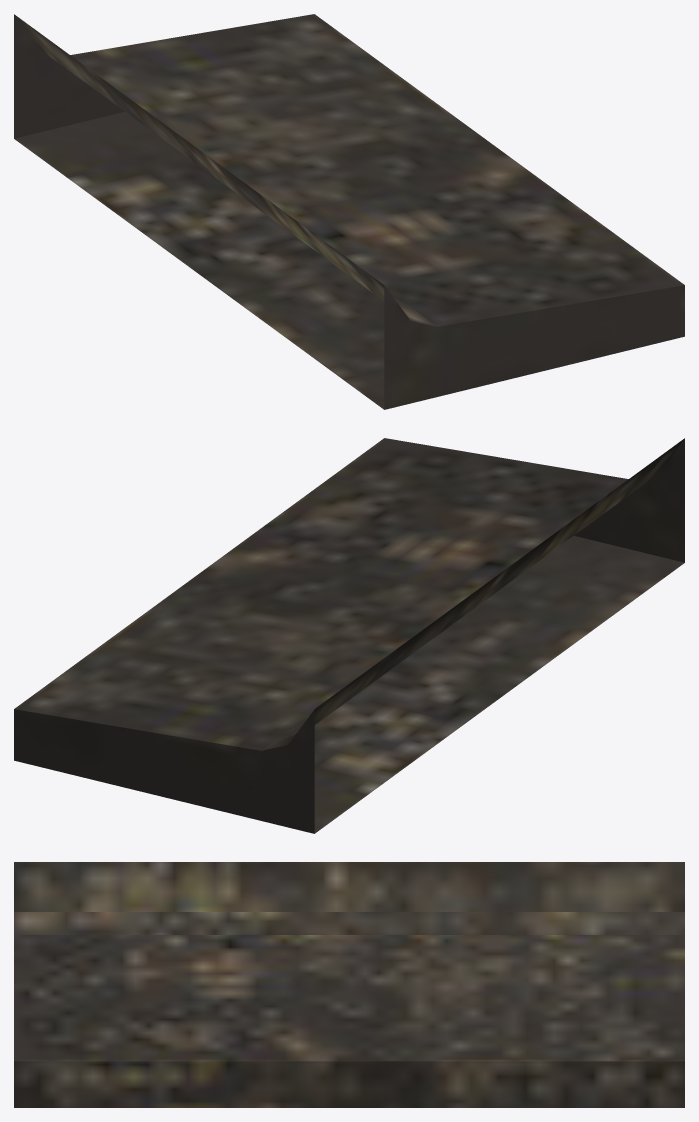
Rendered from WindowTop_S.FBX.
3 renders of one model, top to bottom at view 1: azimuth 30°, elevation 25°; view 2: azimuth 150°, elevation 25°; view 3: azimuth 270°, elevation 25°, orthographic. The views are drawn at different scales.
Parts seen in each view (by area): view 1: WindowTop_S; view 2: WindowTop_S; view 3: WindowTop_S.
Part boxes in pixels (left/top/right/bottom): WindowTop_S: left=14, top=14, right=684, bottom=409; WindowTop_S: left=14, top=438, right=684, bottom=833; WindowTop_S: left=14, top=862, right=684, bottom=1107.
Size of the model in its own units: 80.93 by 32.1 by 173.
